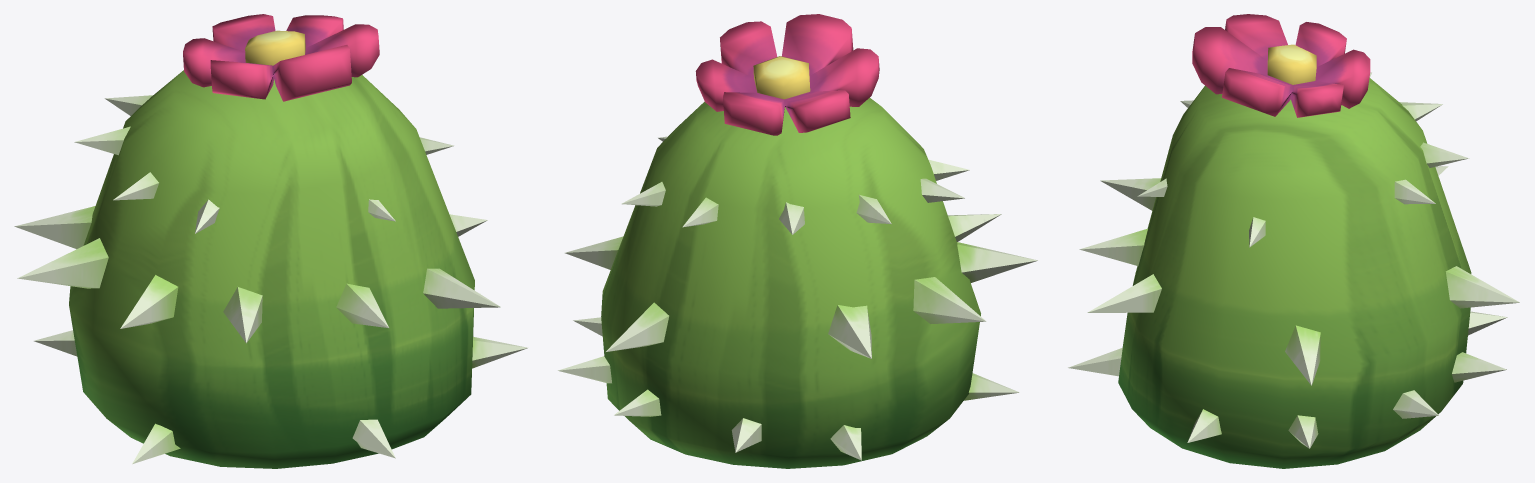
File: Cactus.fbx
3 views of the same model, side by side, from view 1: azimuth 30°, elevation 25°; view 2: azimuth 150°, elevation 25°; view 3: azimuth 270°, elevation 25° (orthographic). The views are drawn at different scales.
Parts seen in each view (by area): view 1: Cactus; view 2: Cactus; view 3: Cactus.
Boxes of the visible parts, x1,y1,x2,y2 form: Cactus: [14, 14, 528, 468]; Cactus: [558, 14, 1037, 468]; Cactus: [1068, 14, 1519, 468].
Bounding box in the file's own units: 34.94 × 29.72 × 31.62.
